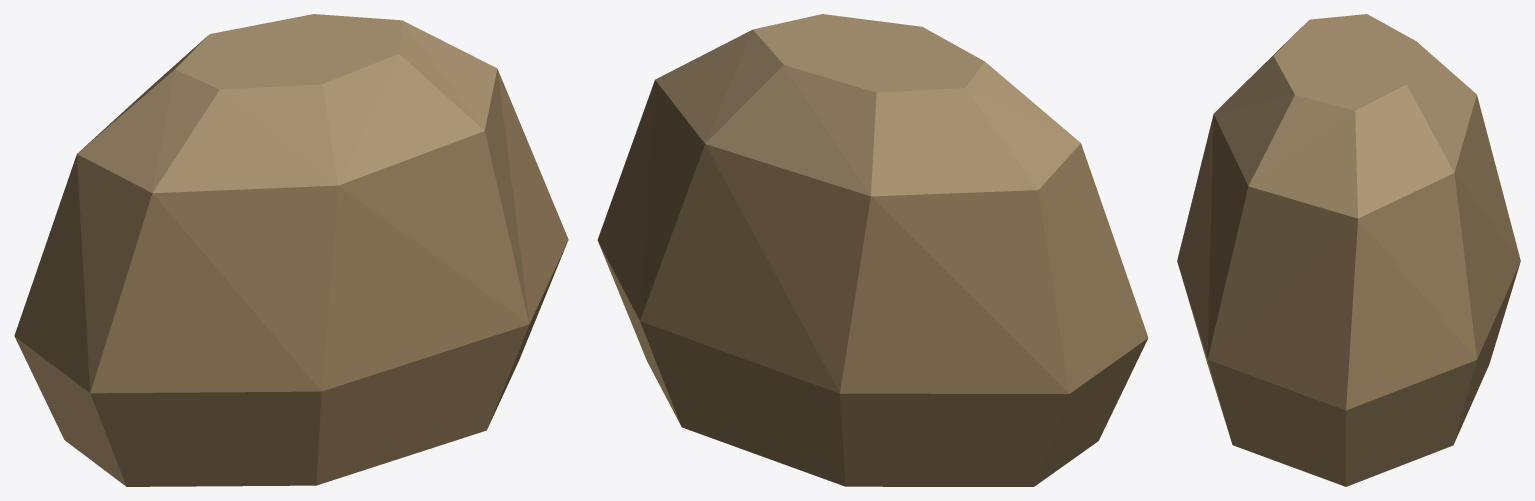
Rendered from sand-rock-large.glb.
3 views of the same model, side by side, from view 1: azimuth 30°, elevation 25°; view 2: azimuth 150°, elevation 25°; view 3: azimuth 270°, elevation 25° (orthographic). The views are drawn at different scales.
Parts seen in each view (by area): view 1: sand-rock-large__body; view 2: sand-rock-large__body; view 3: sand-rock-large__body.
Boxes of the visible parts, <box> form: sand-rock-large__body: <box>14,14,568,486</box>; sand-rock-large__body: <box>597,14,1148,486</box>; sand-rock-large__body: <box>1177,14,1520,486</box>.
Bounding box in the file's own units: 2.08 × 1.4 × 1.33.
